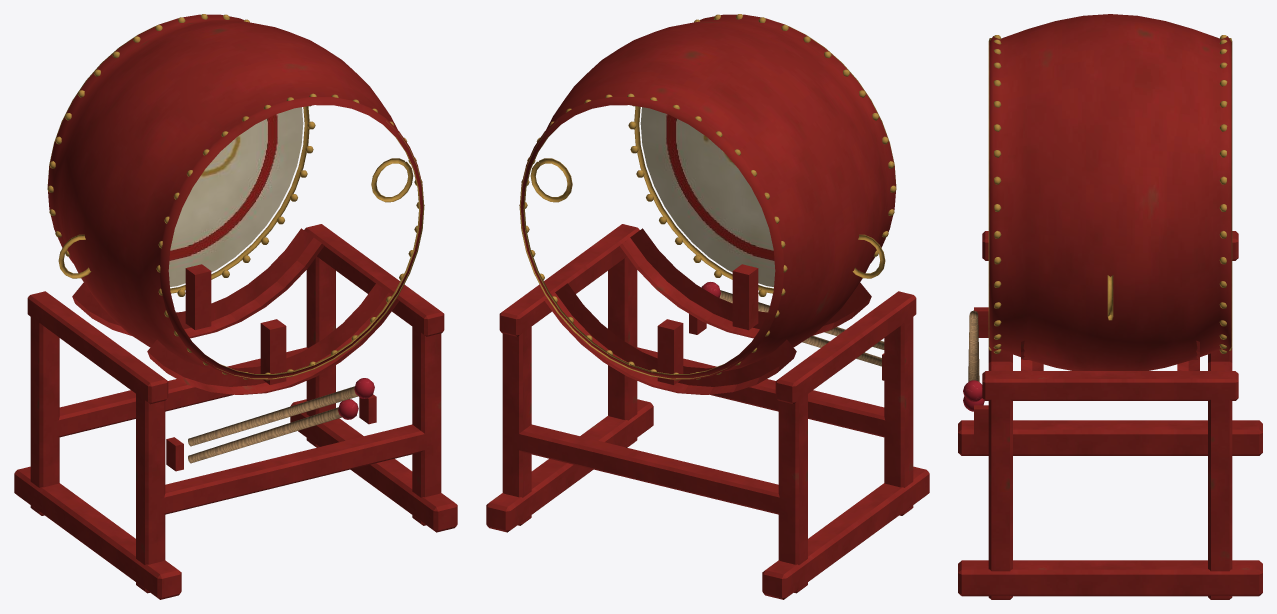
The model's file is war_drum.glb.
The picture shows the model from 3 angles, left to right: view 1: azimuth 30°, elevation 25°; view 2: azimuth 150°, elevation 25°; view 3: azimuth 270°, elevation 25°; orthographic projection. The views are drawn at different scales.
Visible parts, largest first — view 1: DrumFrame, DrumBody, DrumHeads, DrumNails, Drumsticks, DrumstickKnobs; view 2: DrumFrame, DrumBody, DrumHeads, DrumNails, Drumsticks; view 3: DrumBody, DrumFrame, DrumNails, Drumsticks, DrumstickKnobs.
Boxes of the visible parts, x1,y1,x2,y2 form: DrumFrame: (14,224,457,599); DrumBody: (47,14,423,379); DrumHeads: (168,107,303,286); DrumNails: (47,14,424,380); Drumsticks: (188,386,358,463); DrumstickKnobs: (338,378,374,419); DrumFrame: (486,224,929,599); DrumBody: (520,14,896,379); DrumHeads: (640,107,775,286); DrumNails: (519,14,896,380); Drumsticks: (719,290,884,366); DrumBody: (989,14,1231,370); DrumFrame: (958,231,1262,599); DrumNails: (988,35,1232,353); Drumsticks: (968,310,979,381); DrumstickKnobs: (963,380,984,411).
Size of what is drawn, in the model's own units: 1.74 by 2.24 by 1.25.
5 materials, 5 textured.
